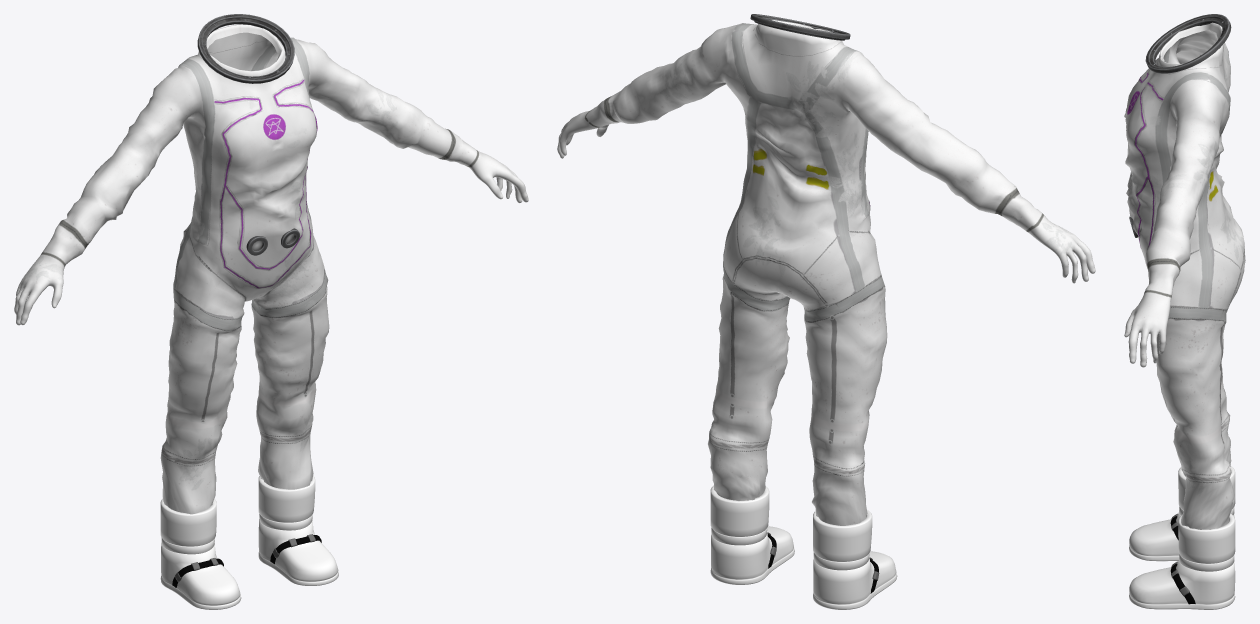
File: astronaut.glb
3 views of the same model, side by side, from view 1: azimuth 30°, elevation 25°; view 2: azimuth 150°, elevation 25°; view 3: azimuth 270°, elevation 25° (orthographic). The views are drawn at different scales.
Visible parts, largest first — view 1: bot; view 2: bot; view 3: bot.
Boxes of the visible parts, x1,y1,x2,y2 form: bot: [14, 14, 528, 609]; bot: [557, 14, 1095, 609]; bot: [1124, 14, 1245, 609].
Size of the model in its own units: 2.08 by 2.14 by 0.4268.
Materials: 4 (3 with a texture image).
